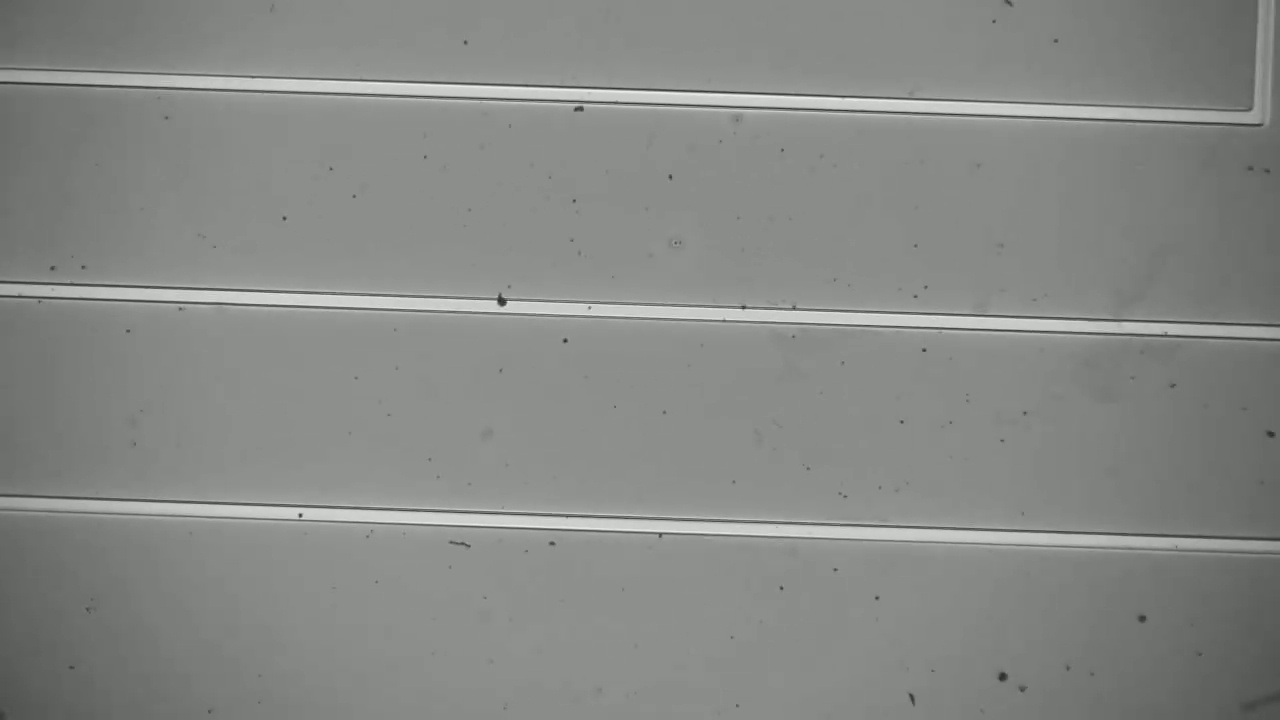stains_enbedded: (490, 286, 514, 319)
